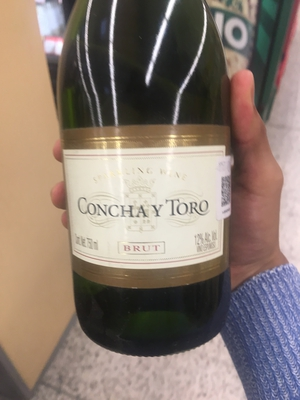brut: (55, 1, 248, 369)
